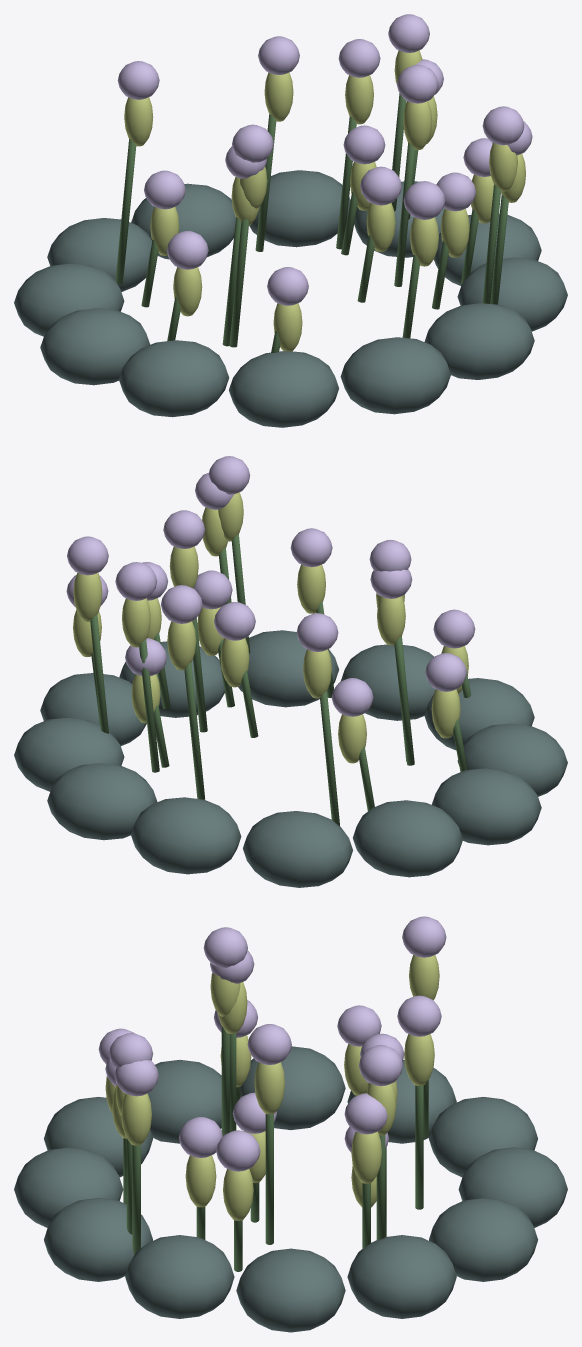
Rendered from deposit_fiber.glb.
3 renders of one model, top to bottom at view 1: azimuth 30°, elevation 25°; view 2: azimuth 150°, elevation 25°; view 3: azimuth 270°, elevation 25°, orthographic. The views are drawn at different scales.
Visible parts, largest first — view 1: deposit_fiber_part_0; view 2: deposit_fiber_part_0; view 3: deposit_fiber_part_0.
Boxes of the visible parts, x1,y1,x2,y2 form: deposit_fiber_part_0: (14,14,567,427); deposit_fiber_part_0: (14,456,567,887); deposit_fiber_part_0: (14,916,567,1332).
Size of the model in its own units: 3.5 by 1.67 by 3.24.
